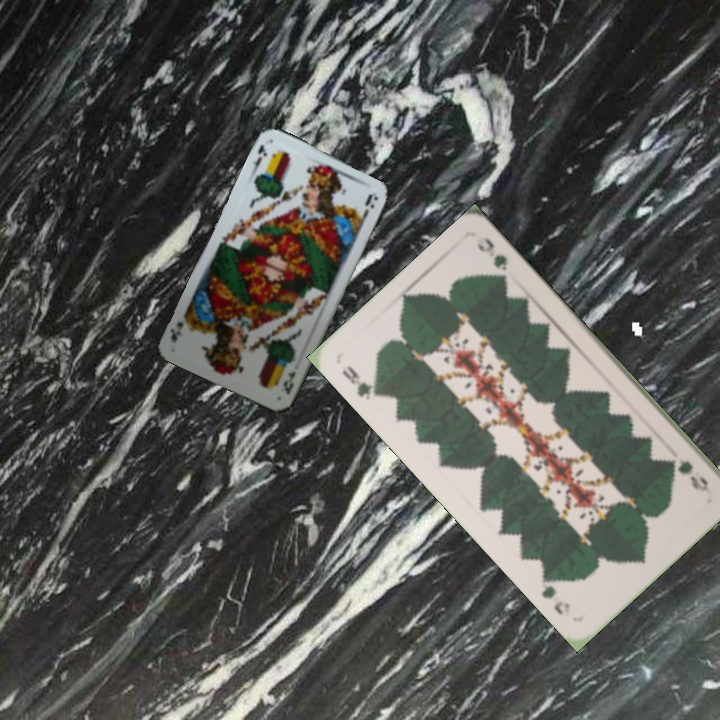EK: (248, 140, 270, 176), (279, 367, 298, 398)
G9: (338, 361, 387, 403), (664, 455, 711, 494)
